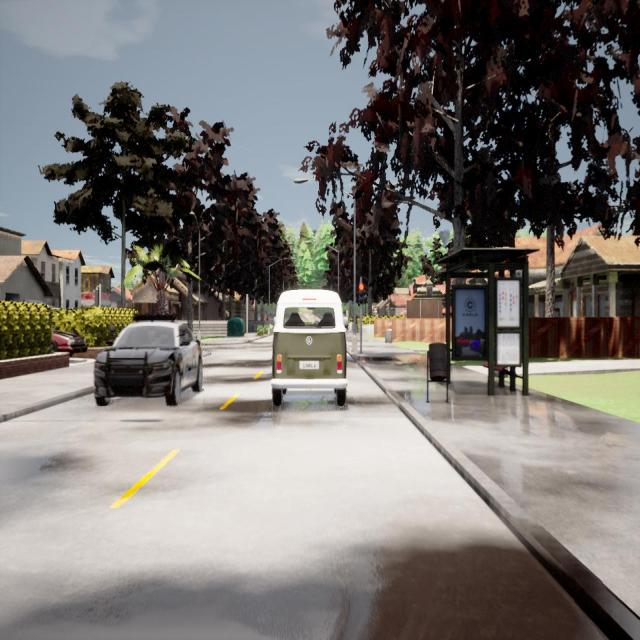Vehicle: (94, 319, 206, 404), (270, 289, 347, 406), (50, 327, 89, 357)
traffic_light: (358, 282, 364, 304)
